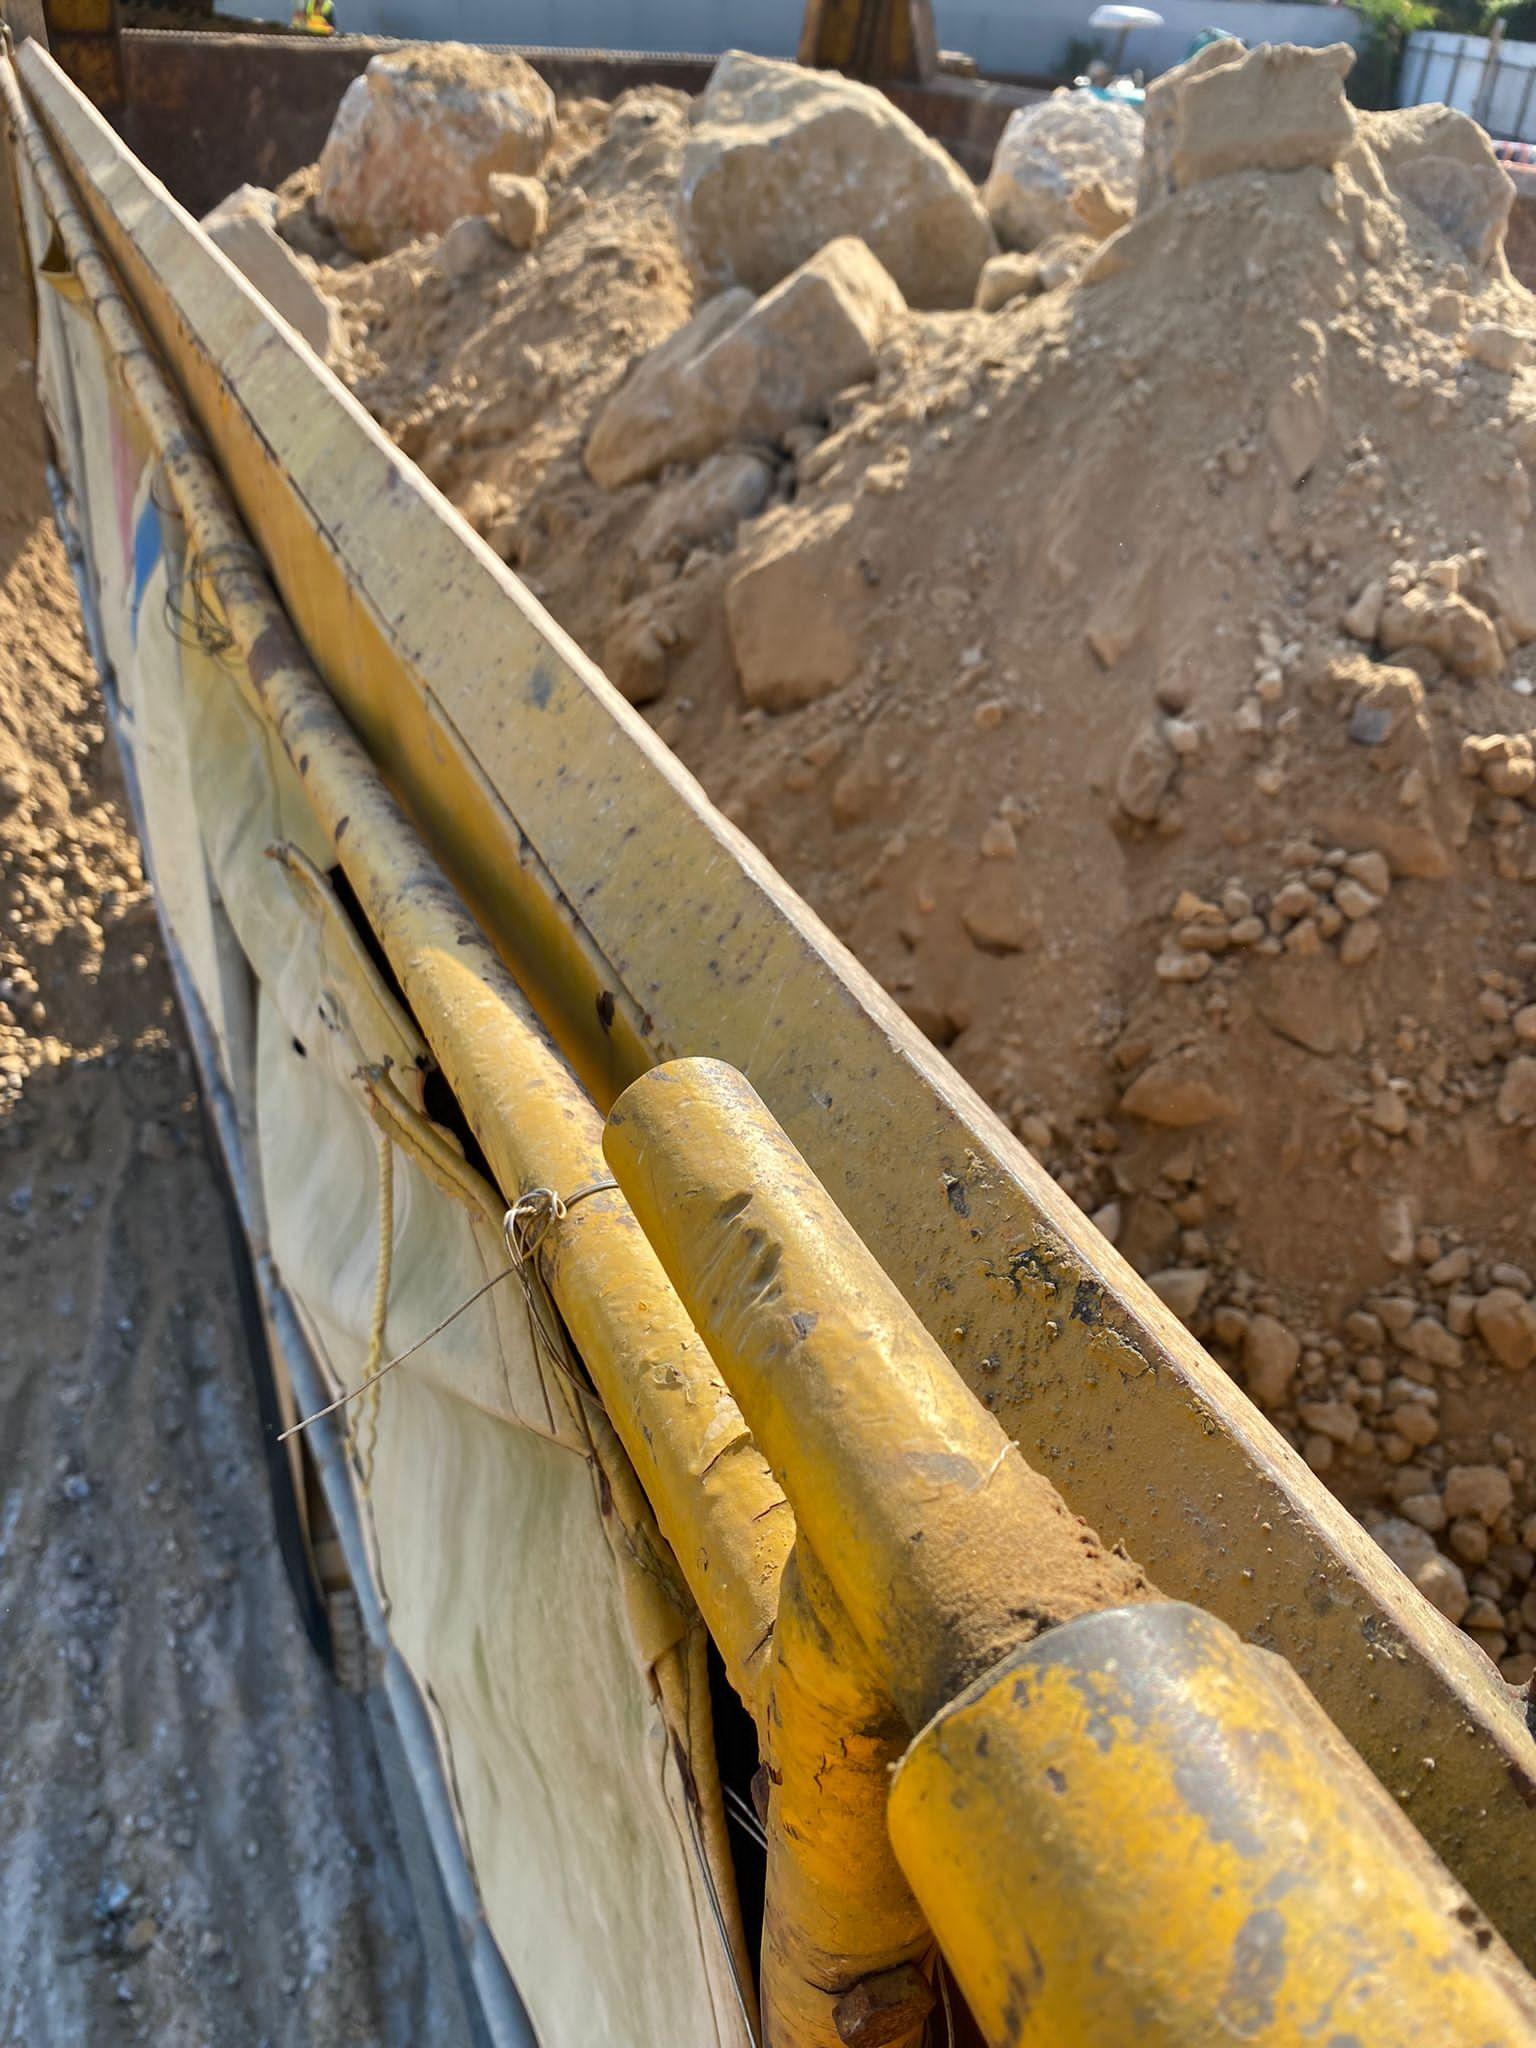stone: (203, 32, 1534, 1705), (671, 47, 999, 311), (579, 232, 910, 489), (311, 39, 557, 258)
